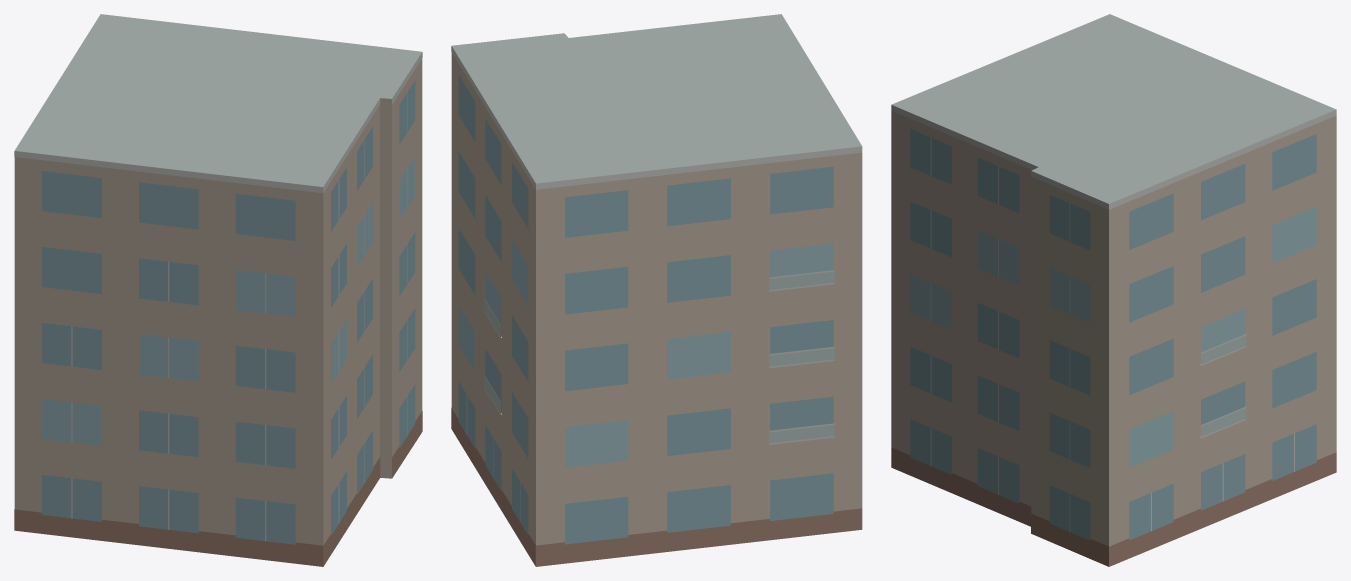
File: survey-upis-32625895.glb
3 views of the same model, side by side, from view 1: azimuth 30°, elevation 25°; view 2: azimuth 150°, elevation 25°; view 3: azimuth 270°, elevation 25° (orthographic). The views are drawn at different scales.
Parts seen in each view (by area): view 1: survey-upis-32625895.tmp; view 2: survey-upis-32625895.tmp; view 3: survey-upis-32625895.tmp.
Part boxes in pixels (x1,y1,x2,y2): survey-upis-32625895.tmp: (14, 14, 422, 566); survey-upis-32625895.tmp: (451, 14, 862, 566); survey-upis-32625895.tmp: (891, 14, 1336, 566).
Size of the model in its own units: 17.14 by 15.25 by 16.97.
